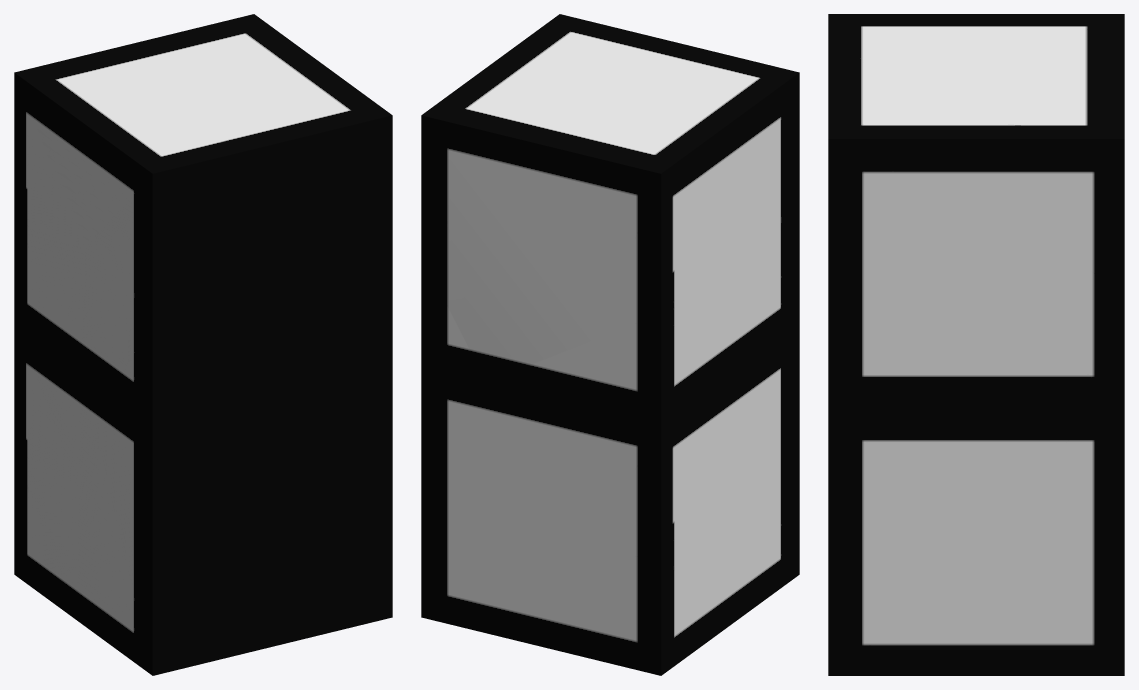
File: VFX_TallCube_Clap.fbx
The picture shows the model from 3 angles, left to right: view 1: azimuth 30°, elevation 25°; view 2: azimuth 150°, elevation 25°; view 3: azimuth 270°, elevation 25°; orthographic projection. The views are drawn at different scales.
Parts seen in each view (by area): view 1: TallCubeP7, TallCubeP6, TallCubeP4, TallCubeP5, TallCubeP2, TallCubeP1; view 2: TallCubeP5, TallCubeP2, TallCubeP7, TallCubeP3, TallCubeP4, TallCubeP1; view 3: TallCubeP6, TallCubeP7, TallCubeP3, TallCubeP5.
Boxes of the visible parts, x1=… form: TallCubeP7: x1=19, y1=14, x2=392, y2=396; TallCubeP6: x1=249, y1=116, x2=392, y2=651; TallCubeP4: x1=77, y1=345, x2=268, y2=675; TallCubeP5: x1=14, y1=14, x2=303, y2=247; TallCubeP2: x1=14, y1=213, x2=79, y2=619; TallCubeP1: x1=14, y1=451, x2=72, y2=616; TallCubeP5: x1=421, y1=51, x2=799, y2=339; TallCubeP2: x1=486, y1=314, x2=726, y2=632; TallCubeP7: x1=421, y1=14, x2=799, y2=381; TallCubeP3: x1=421, y1=255, x2=577, y2=617; TallCubeP4: x1=723, y1=245, x2=799, y2=629; TallCubeP1: x1=421, y1=551, x2=719, y2=675; TallCubeP6: x1=828, y1=139, x2=1096, y2=675; TallCubeP7: x1=828, y1=14, x2=1124, y2=382; TallCubeP3: x1=829, y1=289, x2=1124, y2=675; TallCubeP5: x1=828, y1=14, x2=1124, y2=138.
Bounding box in the file's own units: 100 × 200 × 100.
